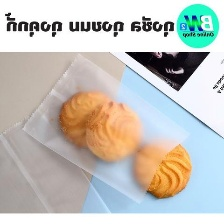snack: (16, 51, 196, 207)
